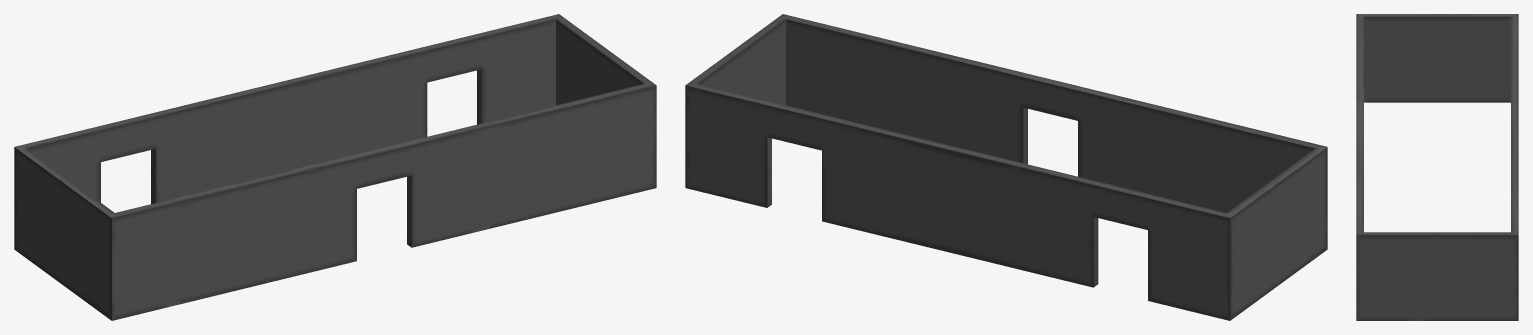
The model's file is StartHouseWallsDarkerTest.fbx.
3 views of the same model, side by side, from view 1: azimuth 30°, elevation 25°; view 2: azimuth 150°, elevation 25°; view 3: azimuth 270°, elevation 25° (orthographic). The views are drawn at different scales.
Visible parts, largest first — view 1: Low_House_Walls_Retry; view 2: Low_House_Walls_Retry; view 3: Low_House_Walls_Retry.
Boxes of the visible parts, <box> form: Low_House_Walls_Retry: <box>14,14,656,320</box>; Low_House_Walls_Retry: <box>685,14,1327,320</box>; Low_House_Walls_Retry: <box>1356,14,1518,320</box>.
Size of the model in its own units: 2000 by 360 by 621.
Materials: 1 (1 with a texture image).
